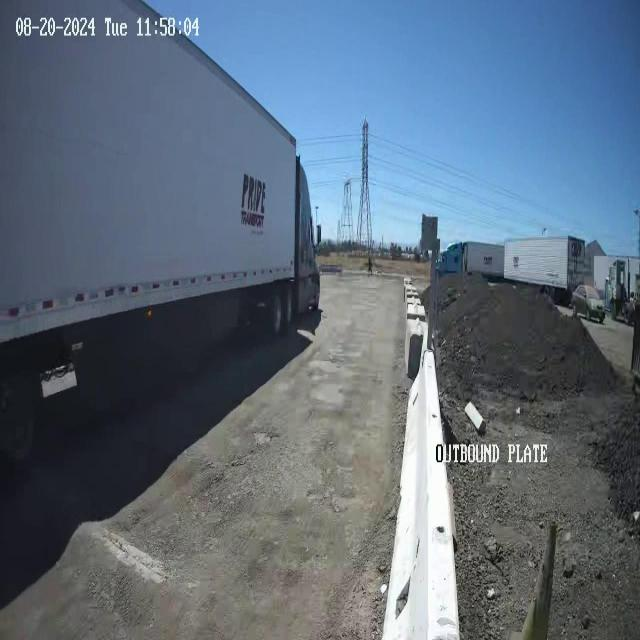TRUCK_CONTAINER: (1, 1, 320, 467)
